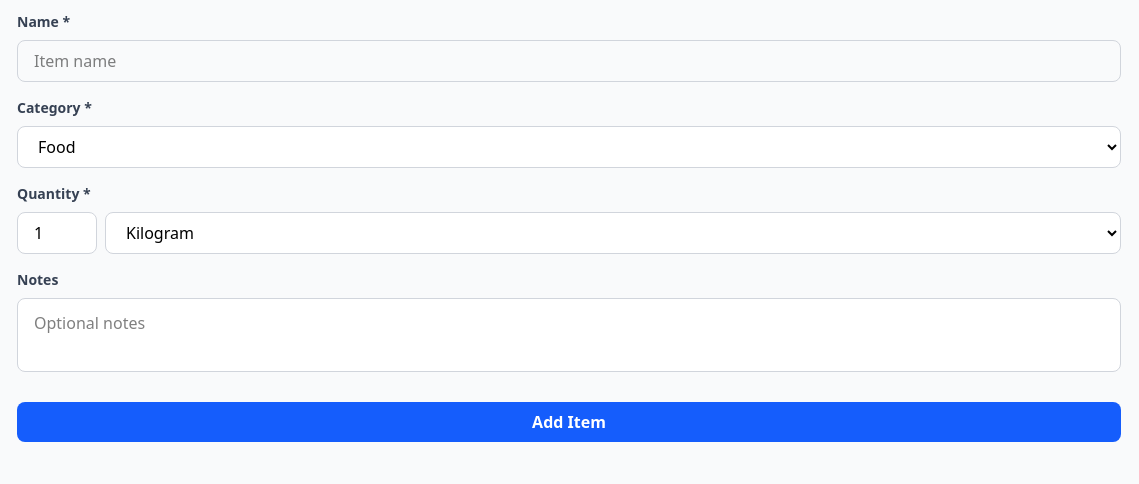
Test: ItemForm › Validation › shows error when name is empty on submit
The width and height of the screenshot is (1139, 484).
Click the button "Add Item" at (569, 422), box [17, 402, 1121, 442]
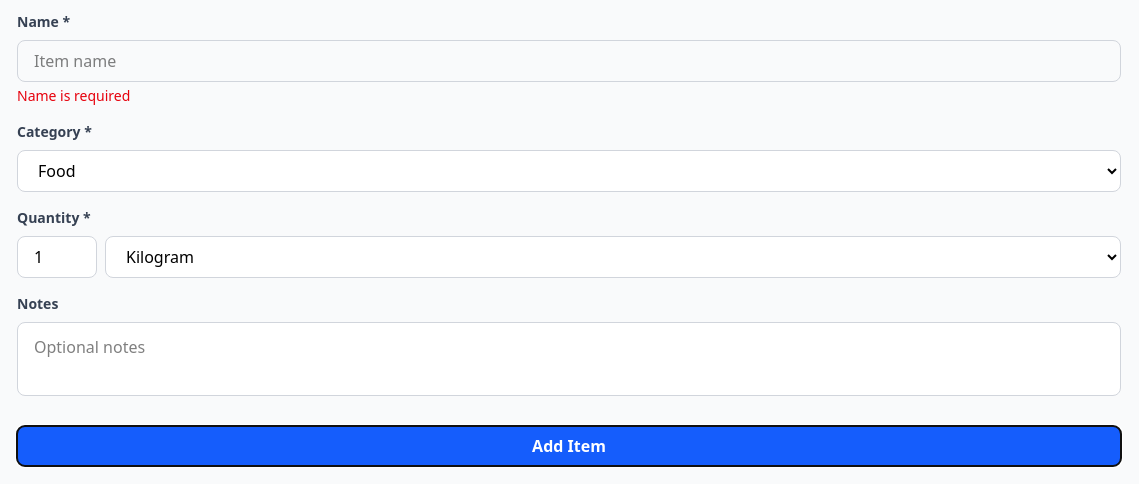
Check: the text "Name is required" is shown, box [17, 86, 130, 105]
